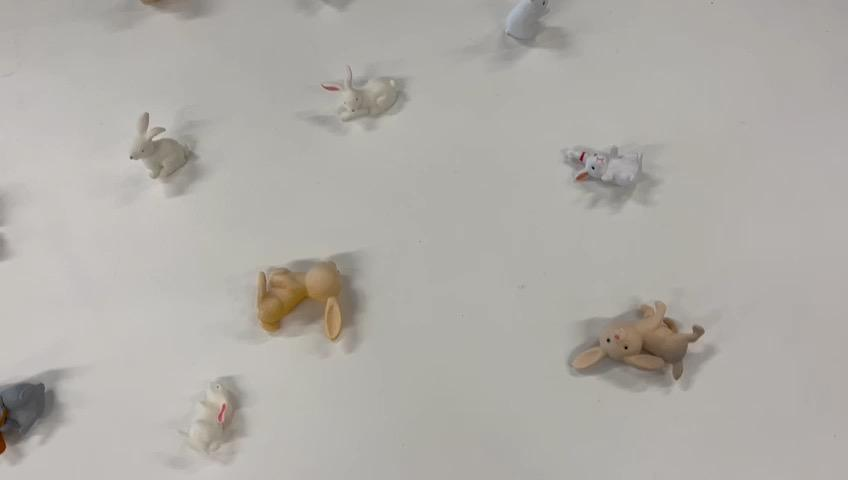pet: (571, 291, 709, 382), (251, 251, 357, 354), (314, 52, 416, 134), (179, 370, 257, 470), (119, 102, 206, 187), (0, 352, 61, 467), (562, 124, 663, 193), (490, 0, 565, 44)
